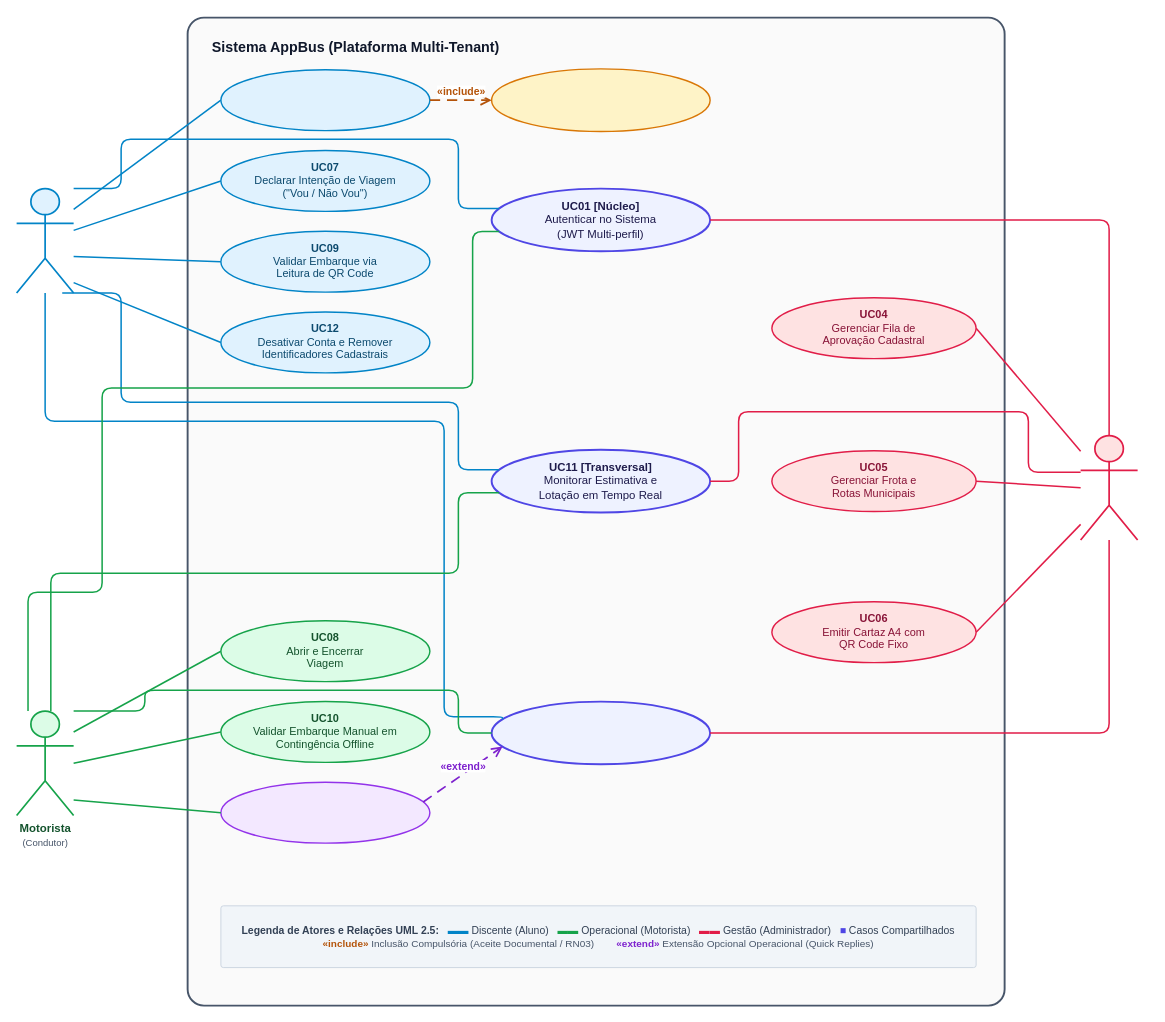
The diagram is 1165 pixels wide and 1022 high, and some of its shapes have lost their labels. The centre of each missing label's shape, as x and y in pixels:
"Administrador (Gestor Municipal)" goes at [1108,487].
"Aluno (Estudante)" goes at [44,240].
"UC02 Realizar Auto-cadastro de Estudante" goes at [325,100].
"UC03 Registrar Aceite Documental e Consentimento" goes at [600,100].
"UC13 [Comunicação] Consultar e Publicar no Mural de Avisos" goes at [600,732].
"UC13b Emitir Resposta Rápida (Quick Reply)" goes at [325,812].
